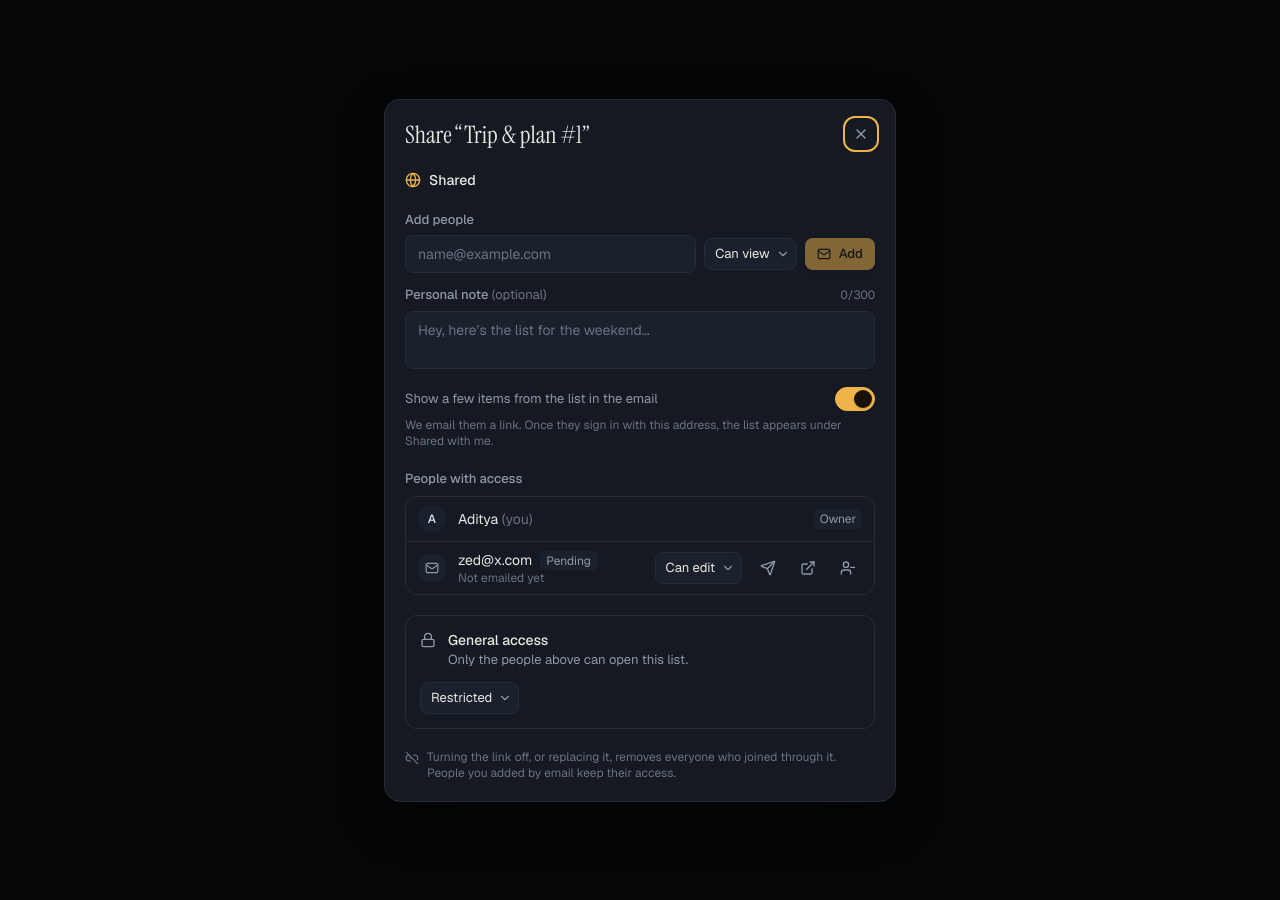
it: pending invites › offers to email an invite that hasn't been emailed, and says what happened
This screenshot has width=1280, height=900.
expect the heading "People with access" is shown: met, box [405,470,522,486]
expect the text "Not emailed yet" is shown: met, box [458,570,544,586]
Click the button named "Email invite to zed@x.com".
click(768, 568)  # box [754,554,782,582]
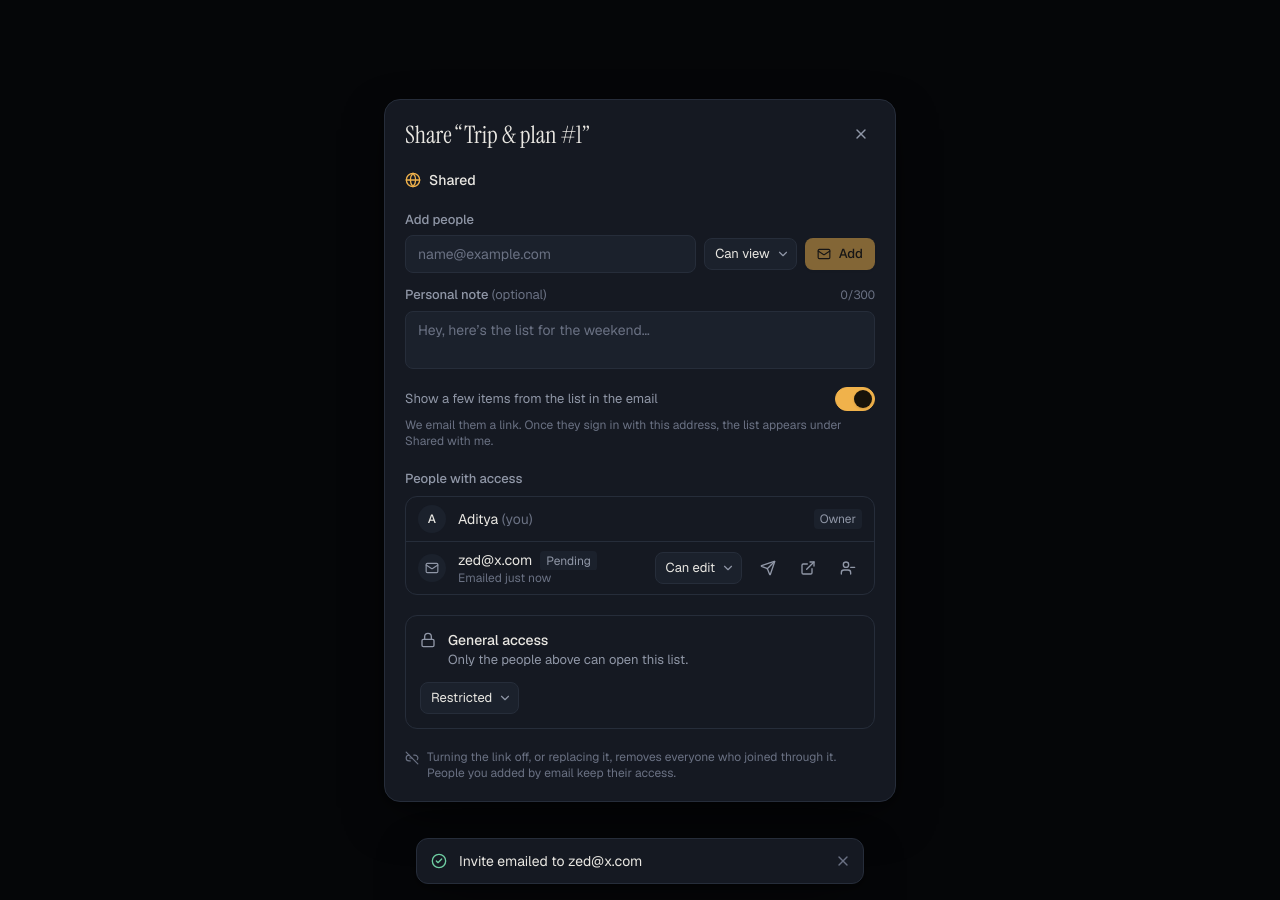
expect the text "Invite emailed to zed@x.com" is shown: met, box [459,852,642,870]
